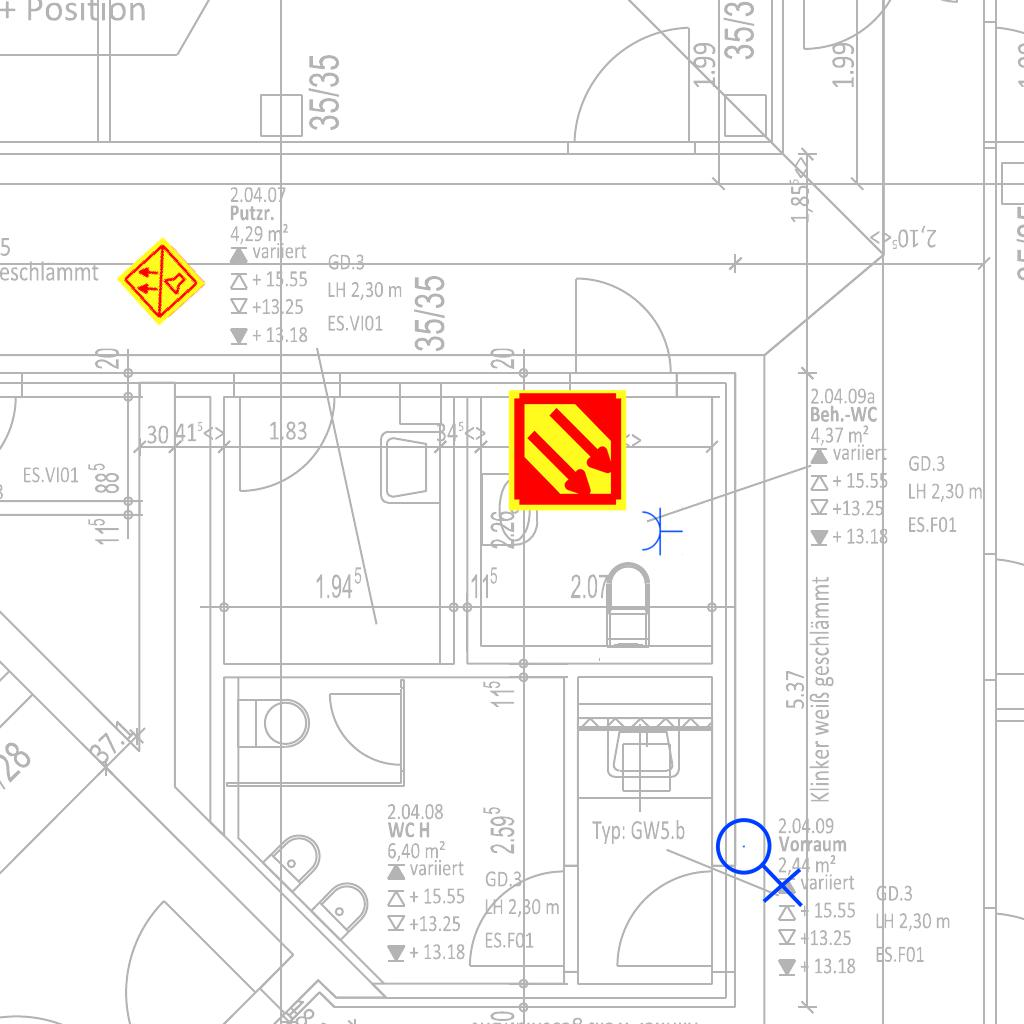ASR_Ansaugrauchmelder: (505, 388, 630, 513)
Elektroanschluss_allgemein_230V_Geraeteanschlussdose_230V: (714, 809, 808, 908)
OKW_Multisensormelder_(Kombination_optischer_Rauch-Kahlenmonoxid_Waerme-Melder): (114, 234, 208, 328)
Schukosteckdose_einfach: (640, 506, 683, 556)
